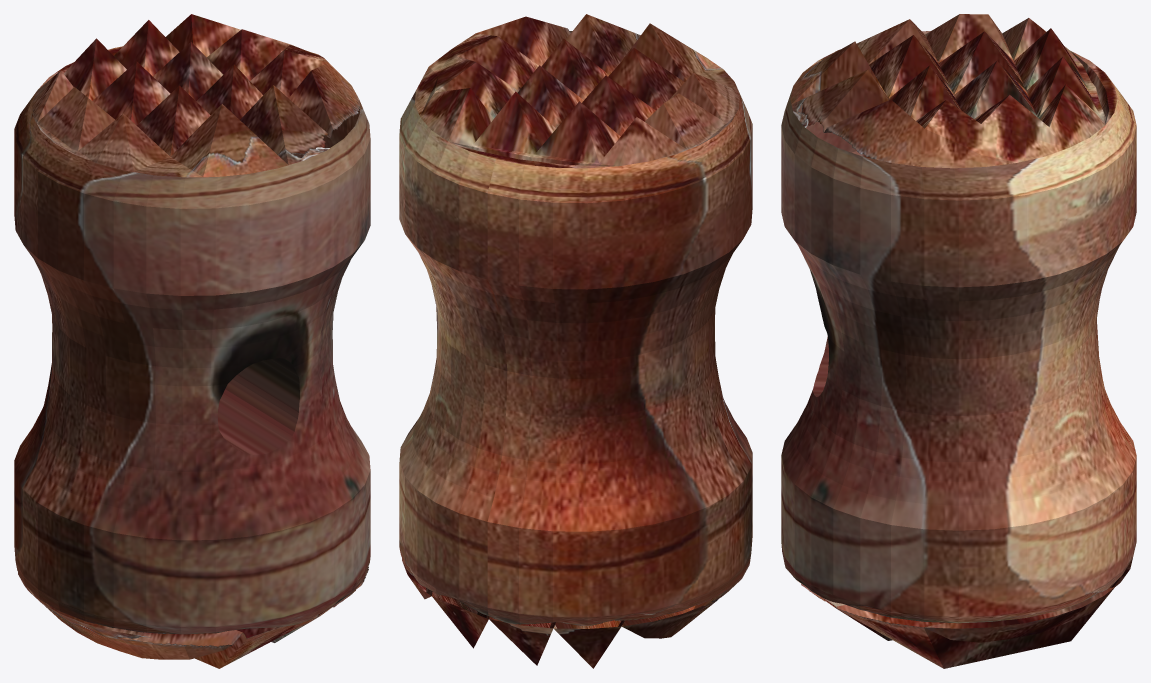
File: JohnnyDarumaVanika0.fbx
The picture shows the model from 3 angles, left to right: view 1: azimuth 30°, elevation 25°; view 2: azimuth 150°, elevation 25°; view 3: azimuth 270°, elevation 25°; orthographic projection.
Parts seen in each view (by area): view 1: Цилиндр; view 2: Цилиндр; view 3: Цилиндр.
Boxes of the visible parts, x1,y1,x2,y2 form: Цилиндр: (14,14,370,668); Цилиндр: (399,14,752,668); Цилиндр: (781,14,1136,668).
Size of the model in its own units: 200 by 352 by 200.
